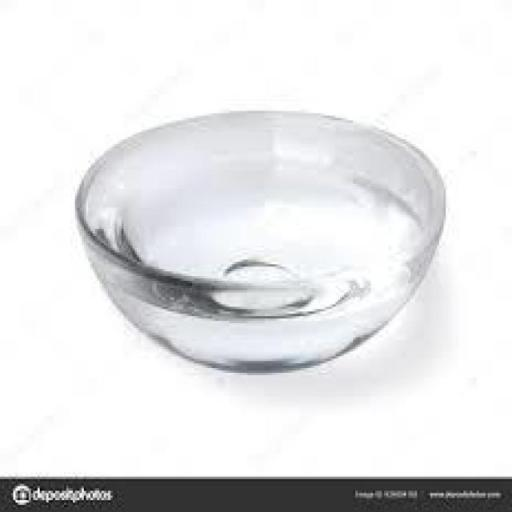glass: (64, 94, 455, 391)
